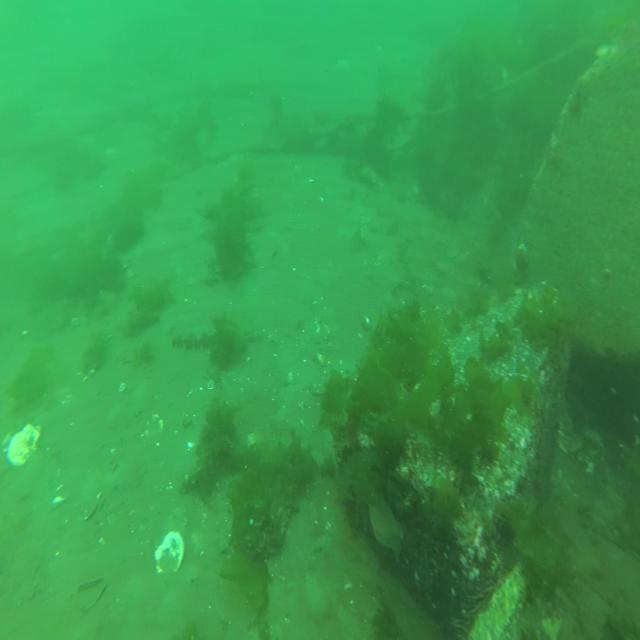holothurian: (172, 324, 213, 354)
scallop: (7, 423, 41, 468), (154, 529, 185, 575), (145, 414, 164, 441)
starfish: (369, 490, 405, 566)
